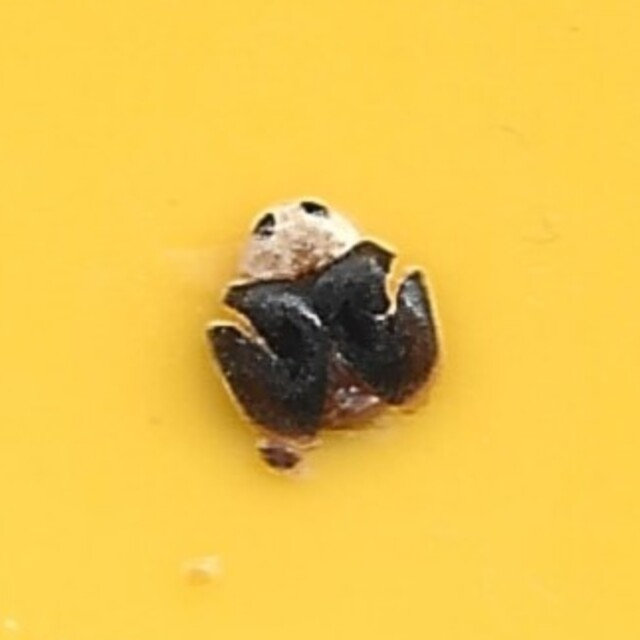Coleoptera: (198, 194, 442, 446)
